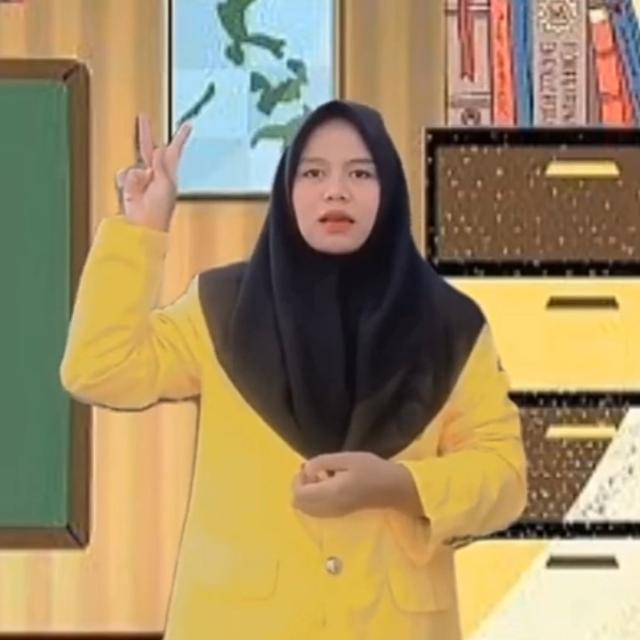K: (120, 101, 198, 222)
